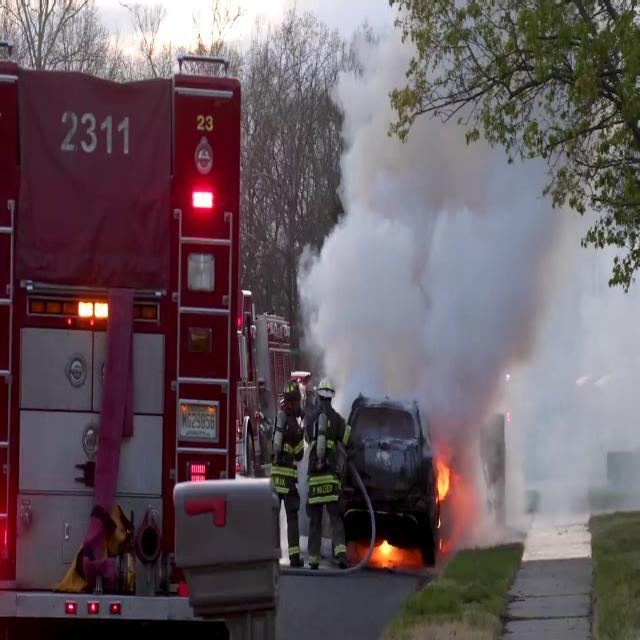Fire: (368, 532, 403, 570), (433, 449, 453, 509)
Smoke: (296, 19, 636, 440)
